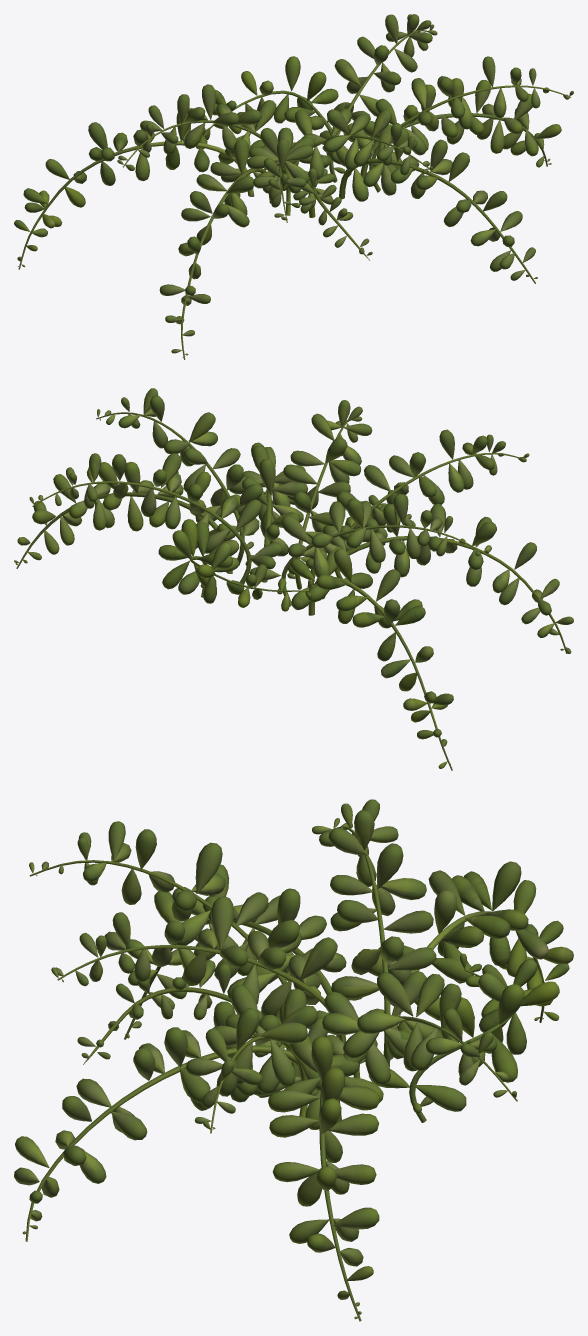
File: plant_leaves_2.obj
The picture shows the model from 3 angles, top to bottom: view 1: azimuth 30°, elevation 25°; view 2: azimuth 150°, elevation 25°; view 3: azimuth 270°, elevation 25°; orthographic projection. The views are drawn at different scales.
Visible parts, largest first — view 1: Plant_small.001; view 2: Plant_small.001; view 3: Plant_small.001.
Part boxes in pixels (x1,y1,x2,y2): Plant_small.001: [14, 14, 573, 359]; Plant_small.001: [14, 388, 573, 770]; Plant_small.001: [14, 799, 573, 1321].
Bounding box in the file's own units: 0.3228 × 0.1256 × 0.218.
